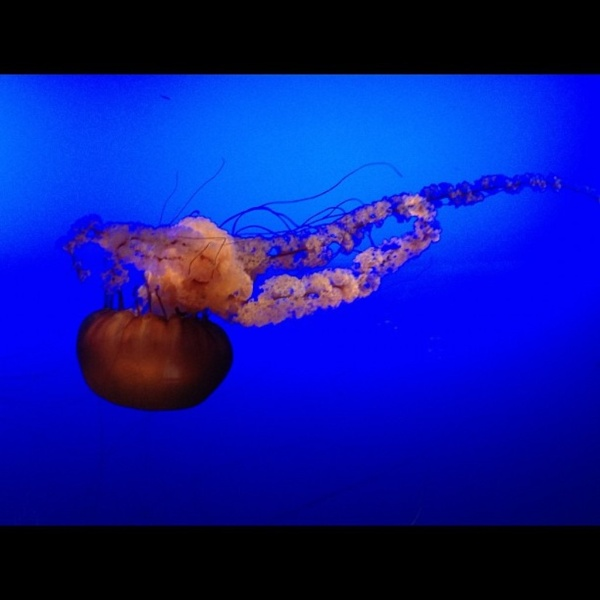Jellyfish: (62, 156, 600, 411)
